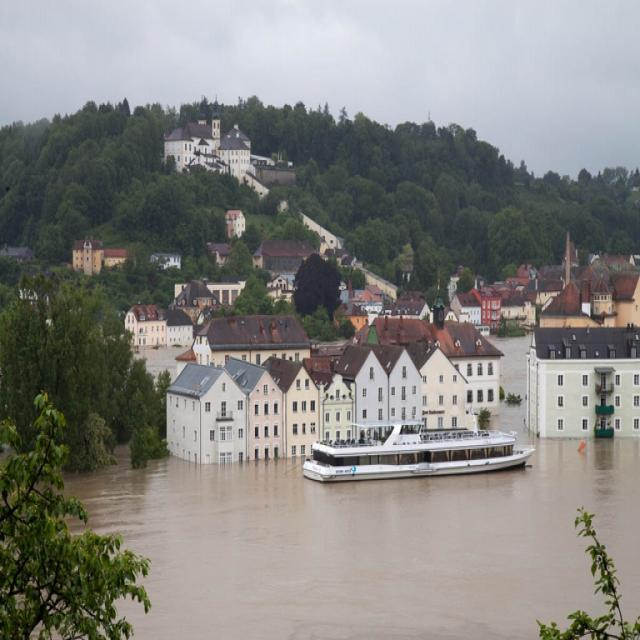flood: (66, 441, 640, 640)
house: (528, 326, 640, 445), (324, 338, 423, 448), (162, 358, 247, 474), (224, 359, 282, 463), (436, 319, 502, 406), (265, 354, 320, 458), (162, 120, 255, 179), (201, 312, 313, 357), (334, 346, 388, 426), (420, 347, 470, 428), (124, 303, 171, 353), (254, 240, 303, 270), (72, 236, 106, 276), (176, 280, 220, 310), (531, 278, 566, 308), (452, 291, 482, 324), (590, 278, 616, 316), (392, 298, 430, 320), (476, 286, 503, 312), (503, 296, 528, 322), (226, 210, 248, 238), (151, 252, 181, 270), (346, 306, 370, 328), (270, 274, 290, 290)
